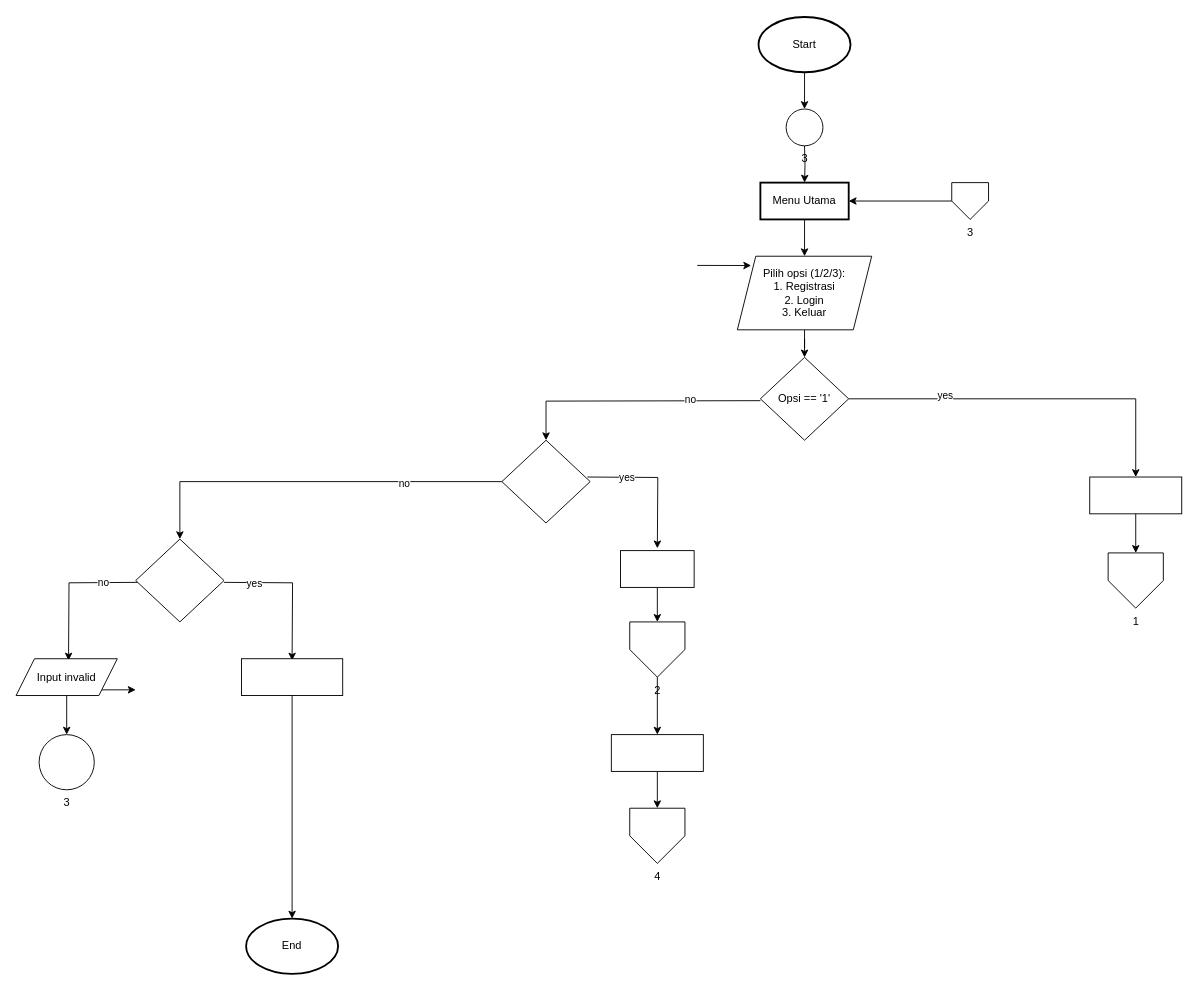
Image size: 1198x990. Some labels were removed from this diagram. Here are the shapes that lost their labels. From the top down, the centre of each, then its label:
At pixel 545 481: "Opsi == '2'".
At pixel 1135 495: "Fitur Registrasi".
At pixel 179 580: "Opsi == '3'".
At pixel 657 568: "Fitur Login".
At pixel 292 677: "Program Berhenti".
At pixel 656 752: "Program Utama".
